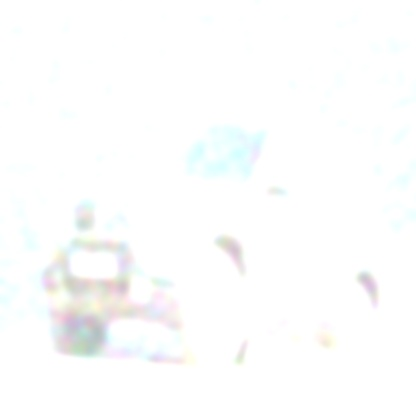Vehicle: (36, 107, 392, 394)
